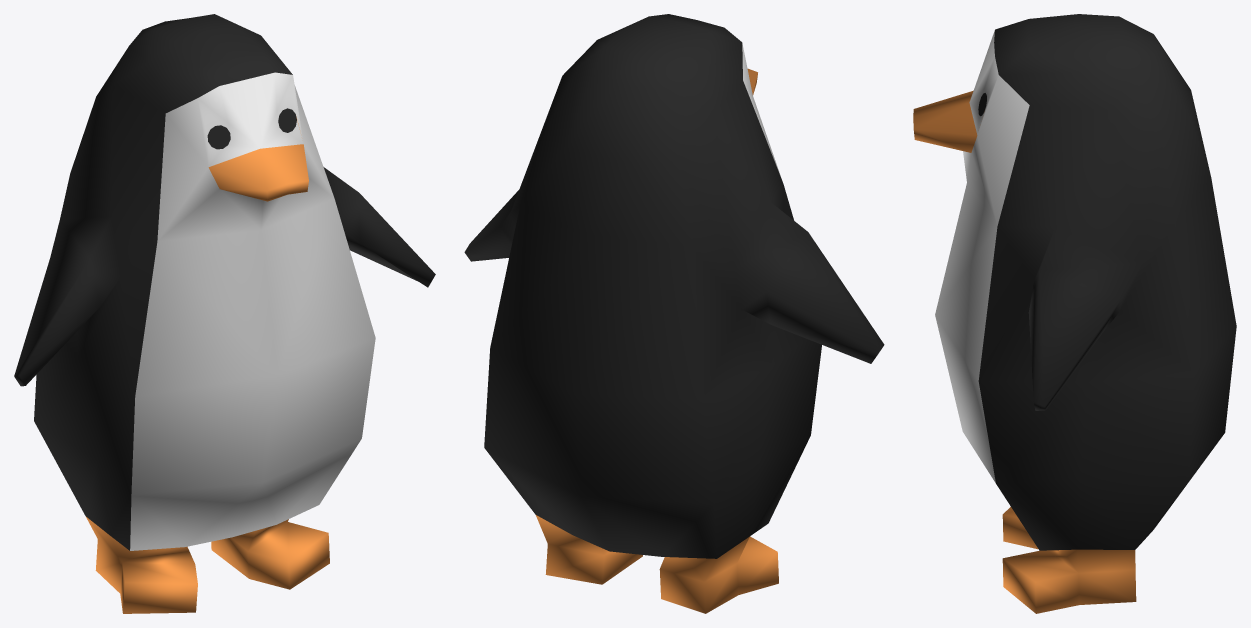
Rendered from GoopMaterials.gltf.
3 renders of one model, left to right at view 1: azimuth 30°, elevation 25°; view 2: azimuth 150°, elevation 25°; view 3: azimuth 270°, elevation 25°, orthographic.
Visible parts, largest first — view 1: Goop; view 2: Goop; view 3: Goop.
Boxes of the visible parts, x1,y1,x2,y2 form: Goop: [14, 14, 435, 613]; Goop: [464, 14, 884, 613]; Goop: [913, 14, 1236, 613].
Bounding box in the file's own units: 0.5707 × 0.712 × 0.3867.
